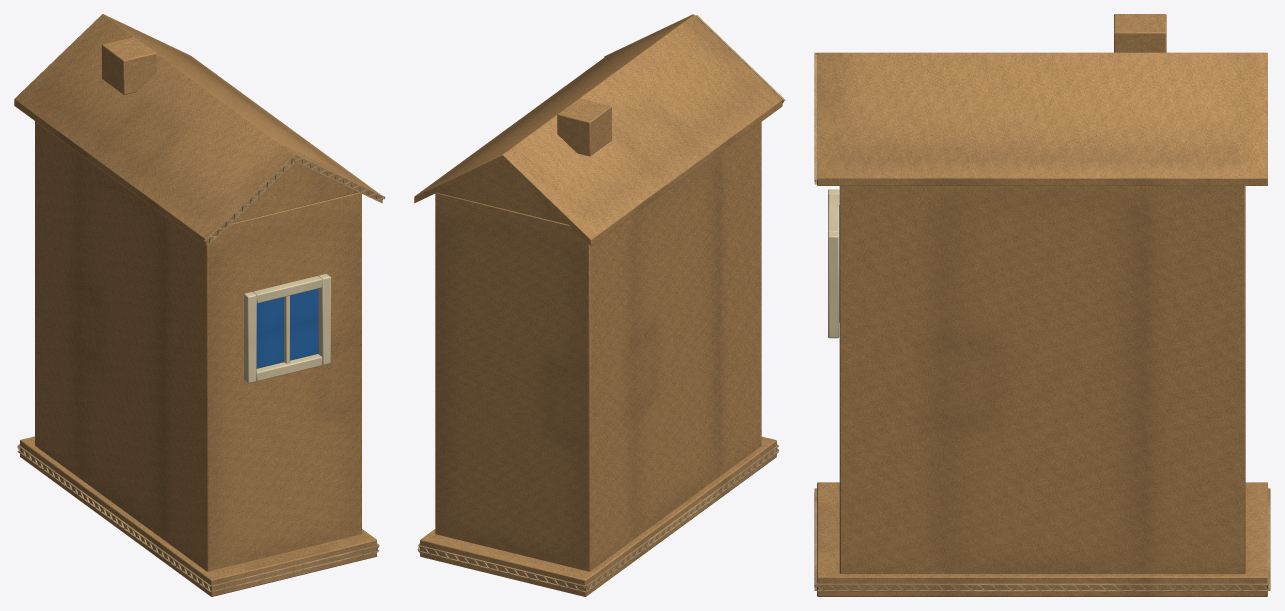
File: 3-right-house-1.fbx
3 views of the same model, side by side, from view 1: azimuth 30°, elevation 25°; view 2: azimuth 150°, elevation 25°; view 3: azimuth 270°, elevation 25° (orthographic). The views are drawn at different scales.
Visible parts, largest first — view 1: right-house-1; view 2: right-house-1; view 3: right-house-1.
Boxes of the visible parts, <box> form: right-house-1: <box>14,14,385,596</box>; right-house-1: <box>414,14,785,596</box>; right-house-1: <box>814,14,1270,596</box>.
Size of the model in its own units: 3261 by 7500 by 6075.
Materials: 1 (1 with a texture image).
